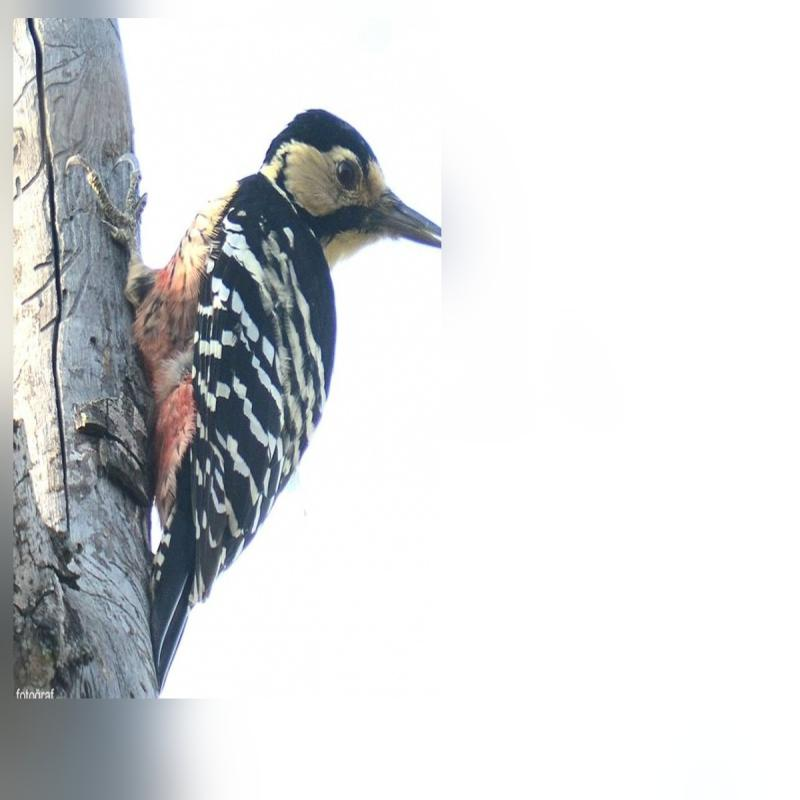white-backed woodpecker: (81, 100, 439, 692)
